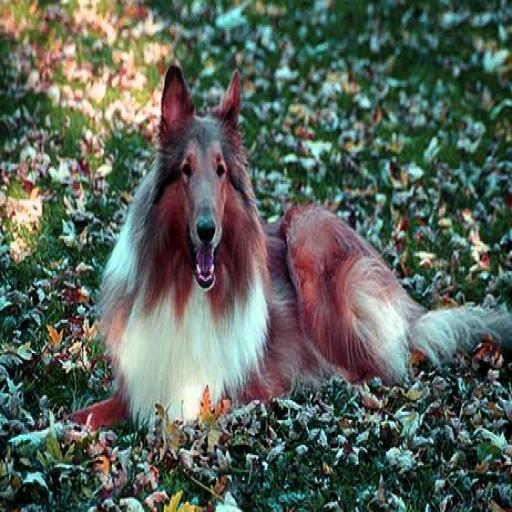dog_face: (148, 64, 247, 294)
